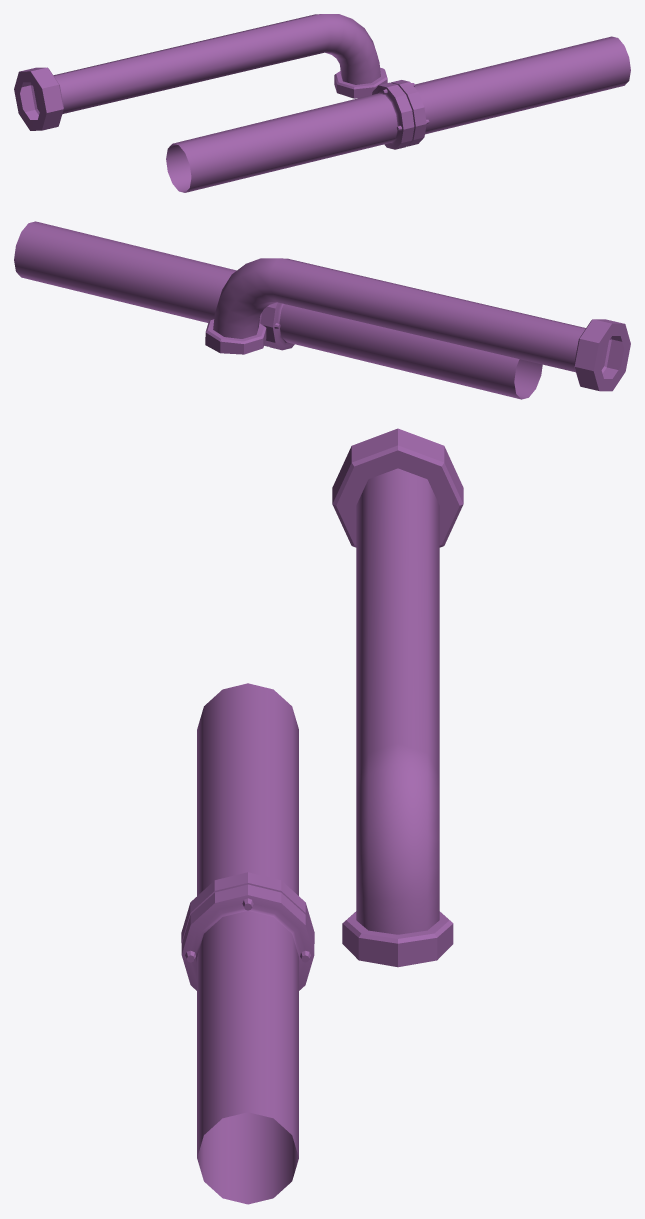
File: P_Tuberias_Cloacas.fbx
The picture shows the model from 3 angles, top to bottom: view 1: azimuth 30°, elevation 25°; view 2: azimuth 150°, elevation 25°; view 3: azimuth 270°, elevation 25°; orthographic projection. The views are drawn at different scales.
Visible parts, largest first — view 1: Tuberia_1, Tuberia_2; view 2: Tuberia_1, Tuberia_2; view 3: Tuberia_1, Tuberia_2.
Boxes of the visible parts, bbox=[...] form: Tuberia_1: bbox=[166, 36, 630, 192]; Tuberia_2: bbox=[14, 14, 387, 130]; Tuberia_1: bbox=[14, 221, 542, 399]; Tuberia_2: bbox=[205, 258, 630, 391]; Tuberia_1: bbox=[181, 683, 314, 1204]; Tuberia_2: bbox=[332, 428, 463, 967].
Bounding box in the file's own units: 15.05 × 3.31 × 3.34.
